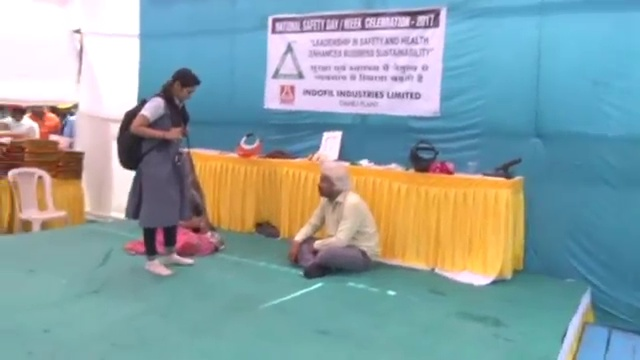helmet_off: (167, 67, 200, 105), (315, 169, 345, 201)
person: (114, 66, 202, 280), (292, 168, 383, 276), (2, 105, 40, 143), (29, 104, 61, 148)
